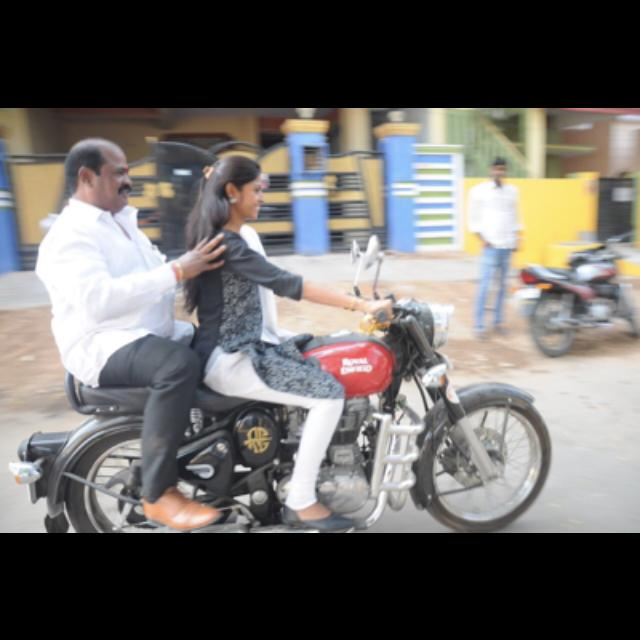Without Helmet: (62, 129, 138, 219), (205, 144, 271, 226)
